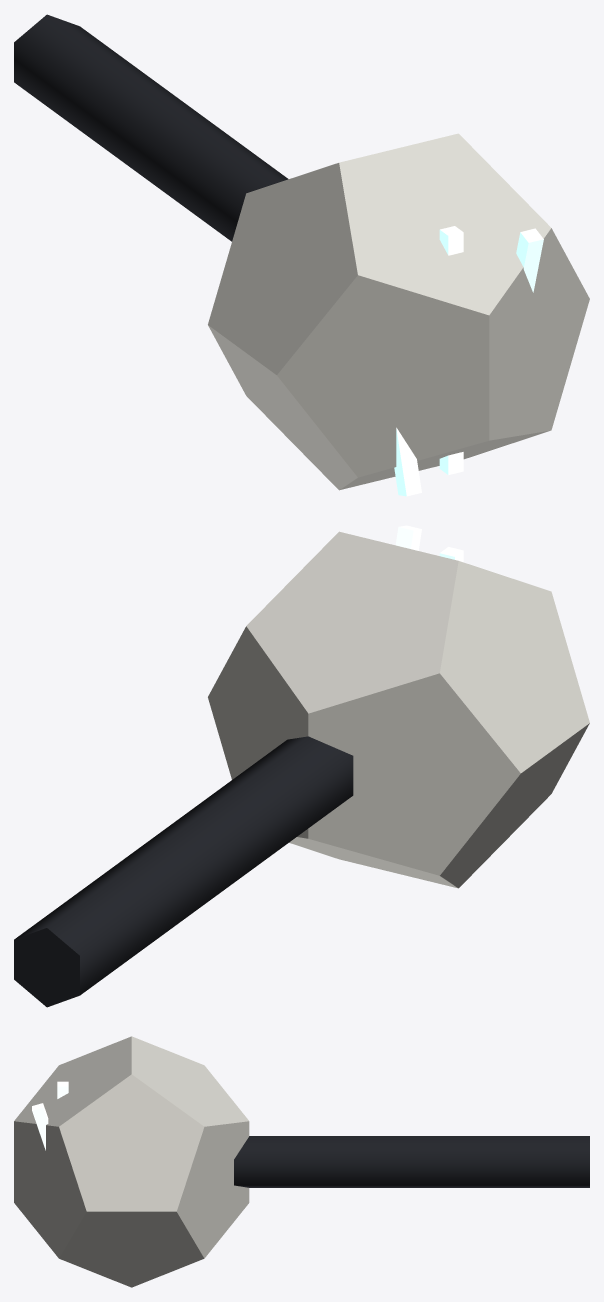
The model's file is wpn_gaia_quake.glb.
3 views of the same model, one above another, from view 1: azimuth 30°, elevation 25°; view 2: azimuth 150°, elevation 25°; view 3: azimuth 270°, elevation 25° (orthographic). The views are drawn at different scales.
Visible parts, largest first — view 1: weapon; view 2: weapon; view 3: weapon.
Boxes of the visible parts, x1,y1,x2,y2 form: weapon: (14,14,589,496); weapon: (14,525,589,1007); weapon: (14,1036,589,1287).
Bounding box in the file's own units: 0.411 × 0.411 × 1.01.
